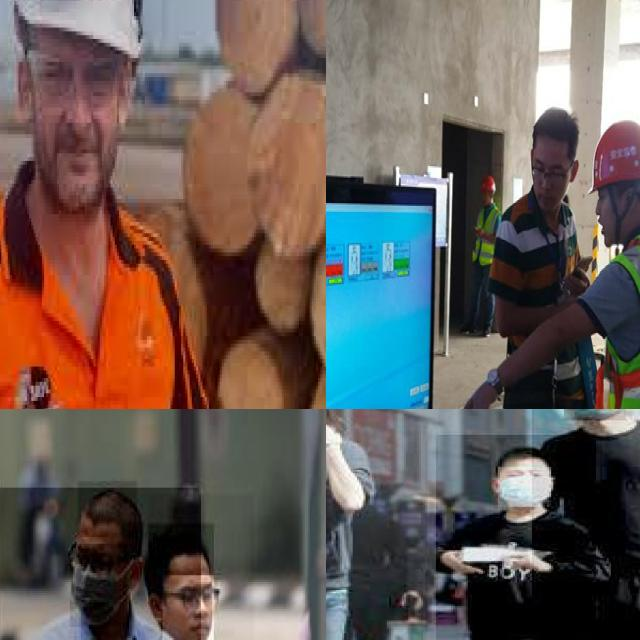face_mask: (70, 544, 127, 627), (498, 467, 551, 507), (564, 409, 626, 420)
face_nomask: (162, 575, 213, 640)
glasses: (70, 539, 121, 580), (176, 584, 220, 611)
head_helmet: (14, 0, 149, 58)
head_nohelmet: (78, 481, 138, 539), (148, 524, 214, 575), (496, 439, 549, 466)
person: (0, 0, 214, 409), (436, 435, 598, 640), (0, 487, 201, 640), (531, 409, 640, 640), (326, 409, 410, 640), (148, 494, 255, 640)
